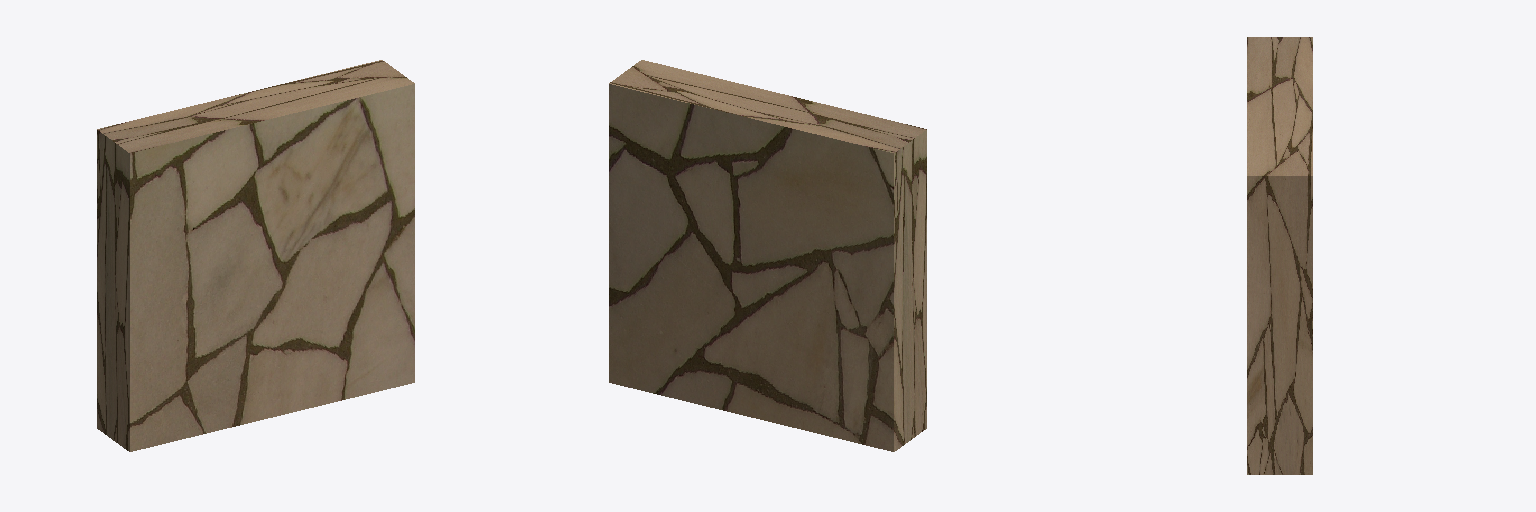
3 renders of one model, left to right at view 1: azimuth 30°, elevation 25°; view 2: azimuth 150°, elevation 25°; view 3: azimuth 270°, elevation 25°, orthographic.
Size of the model in its own units: 10 by 10 by 2.
1 materials, 1 textured.